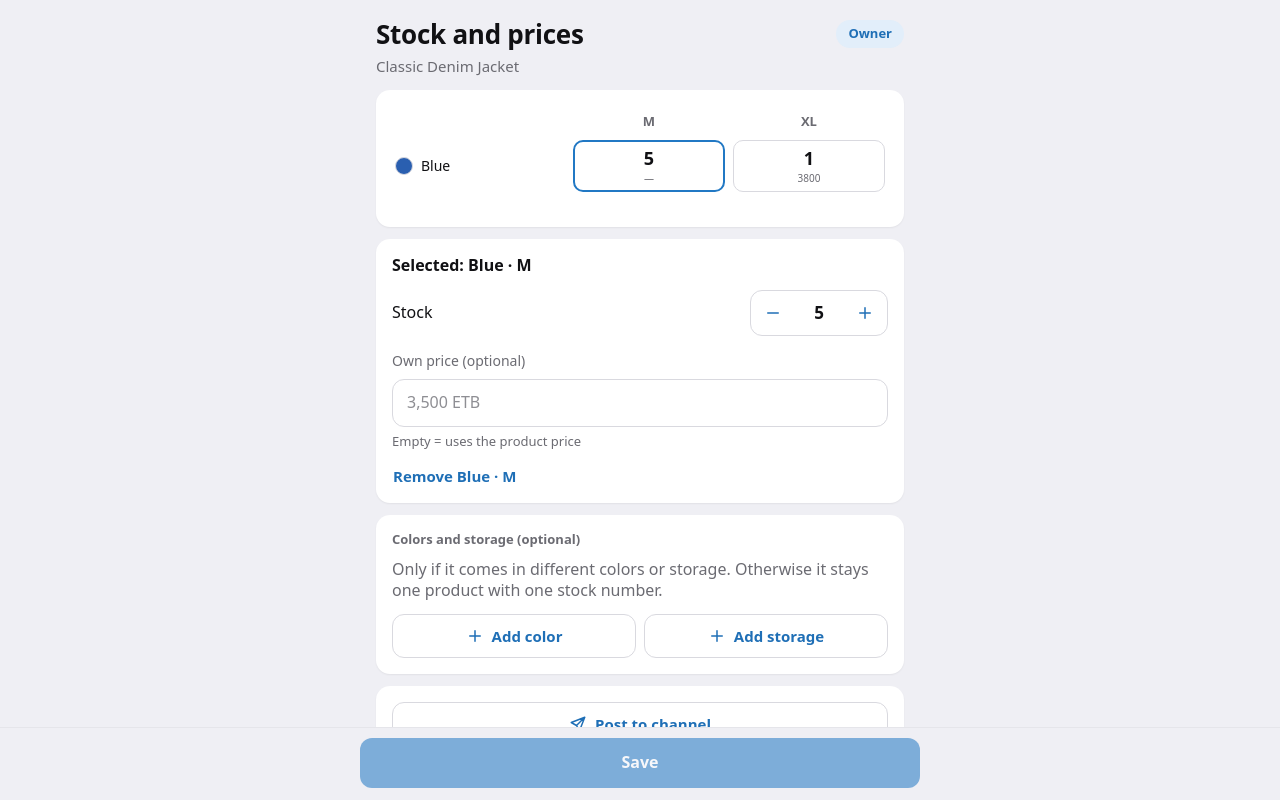
shop types › an electronics shop says "storage" in the stock screen
This screenshot has width=1280, height=800.
Expected: the heading "Colors and storage (optional)" is shown, x1=392 y1=530 x2=580 y2=548
Step 1. Click the button "Add storage" → (766, 636), box x1=644 y1=614 x2=888 y2=658
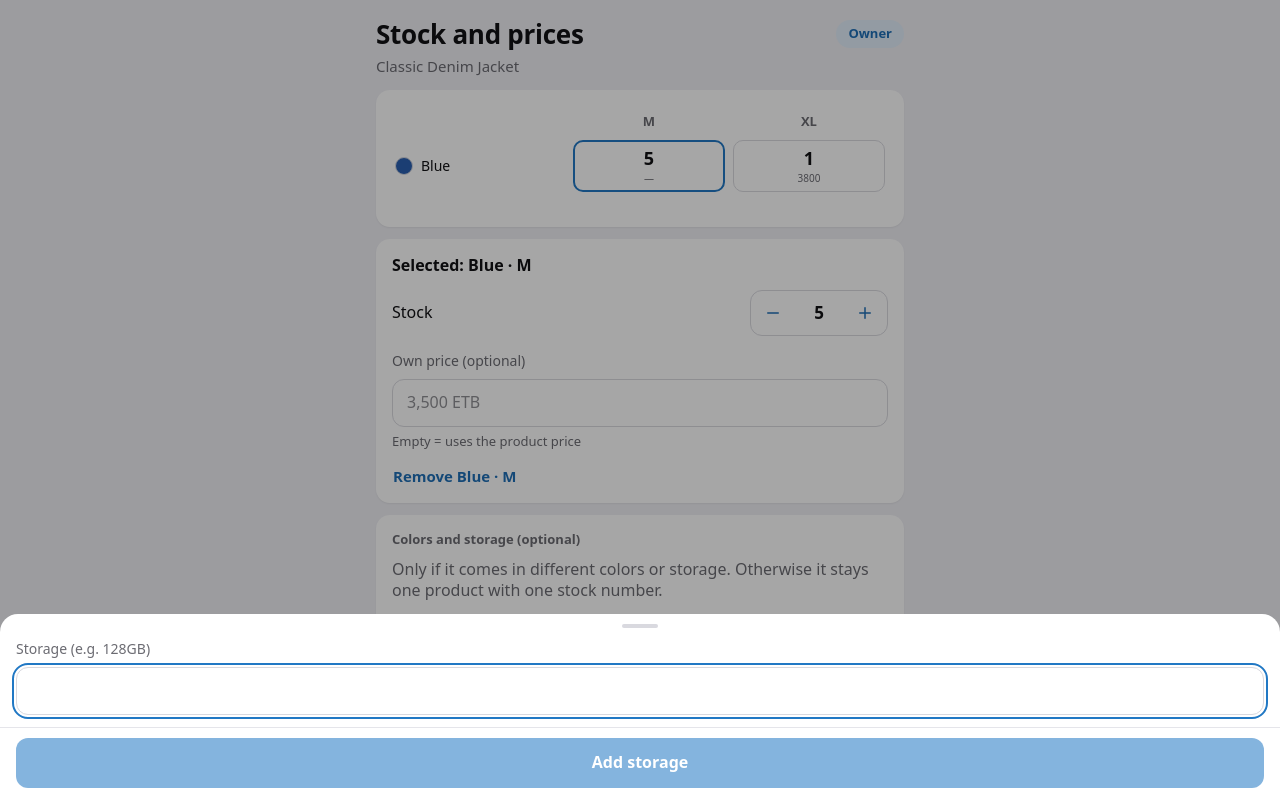
Expected: the field labelled "Storage (e.g. 128GB)" is shown, x1=16 y1=667 x2=1264 y2=715
